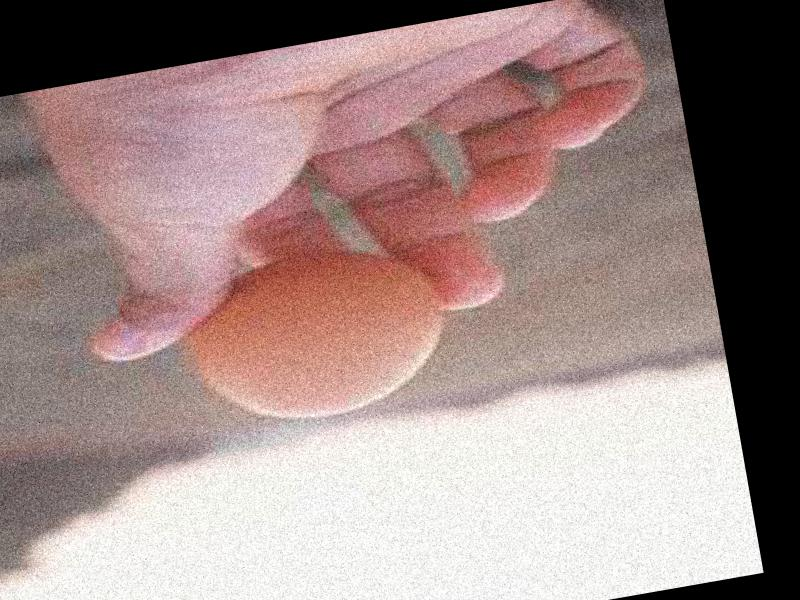Eggs: (180, 236, 457, 436)
